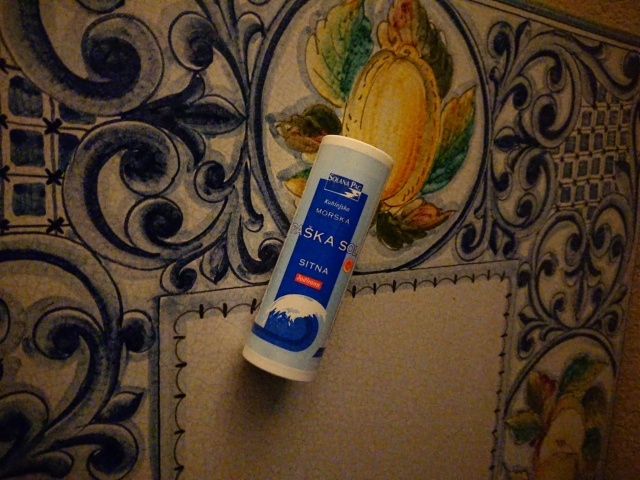Solana Pag Fine Sea Salt 250g: (238, 132, 397, 386)
